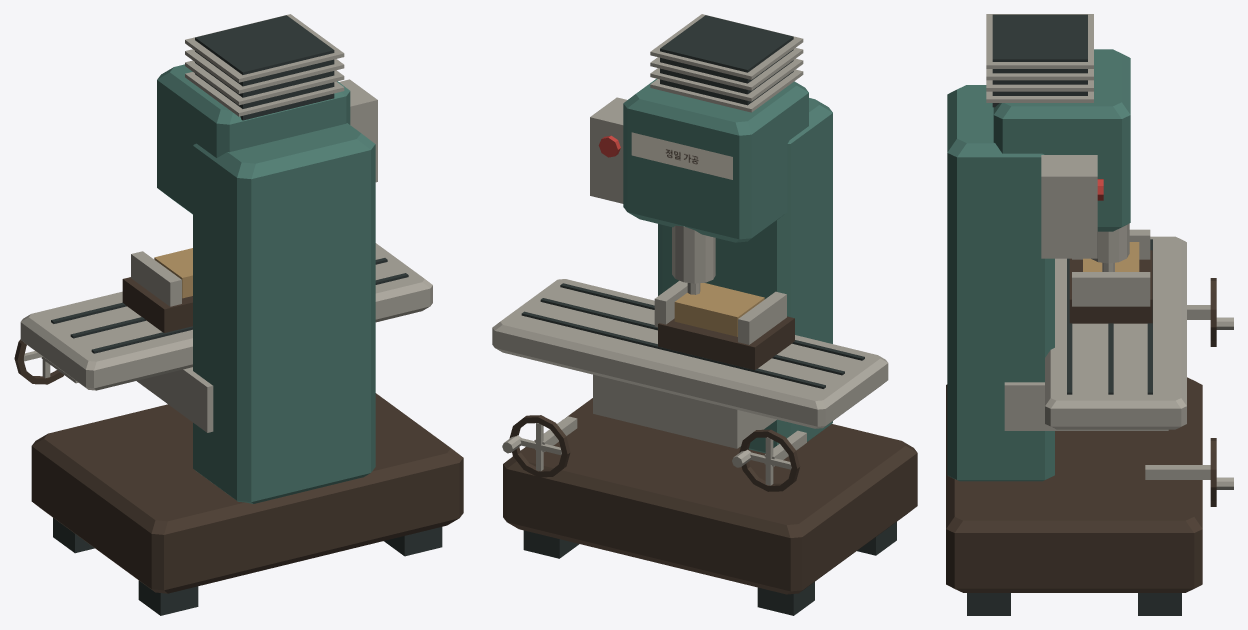
File: T09_Vertical_Milling_Machine.fbx
3 views of the same model, side by side, from view 1: azimuth 30°, elevation 25°; view 2: azimuth 150°, elevation 25°; view 3: azimuth 270°, elevation 25° (orthographic). The views are drawn at different scales.
Visible parts, largest first — view 1: Structure, Work_Table, Spindle_Head, Controls, Handwheels; view 2: Structure, Work_Table, Spindle_Head, Handwheels, Controls, Title; view 3: Structure, Work_Table, Spindle_Head, Controls, Handwheels.
Part boxes in pixels (box(x1,y1,x2,y2)): Structure: box(31, 14, 463, 615); Work_Table: box(20, 243, 432, 390); Spindle_Head: box(157, 64, 350, 214); Controls: box(339, 79, 377, 182); Handwheels: box(14, 339, 78, 384); Structure: box(503, 14, 917, 615); Work_Table: box(492, 279, 888, 428); Spindle_Head: box(623, 78, 808, 294); Handwheels: box(502, 415, 806, 491); Controls: box(590, 97, 627, 203); Title: box(631, 132, 732, 179); Structure: box(946, 14, 1202, 615); Work_Table: box(1045, 229, 1186, 429); Spindle_Head: box(993, 49, 1130, 271); Controls: box(1041, 155, 1103, 258); Handwheels: box(1145, 278, 1233, 506).
Bounding box in the file's own units: 1.6 × 2.25 × 1.15.
7 materials, 1 textured.
